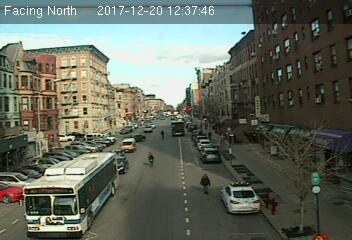bicycle: (147, 152, 156, 169), (159, 129, 166, 142)
bus: (21, 152, 118, 237)
car: (200, 147, 222, 163)
pedestrian: (199, 173, 211, 196)
police: (218, 181, 261, 213)
truck: (120, 137, 137, 153)
ups: (170, 120, 185, 137)
